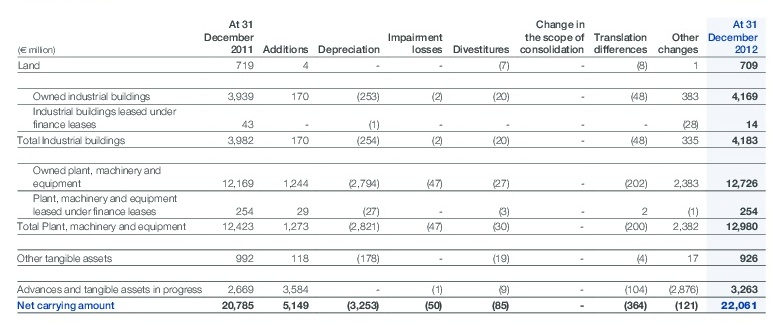table: (0, 0, 779, 328)
